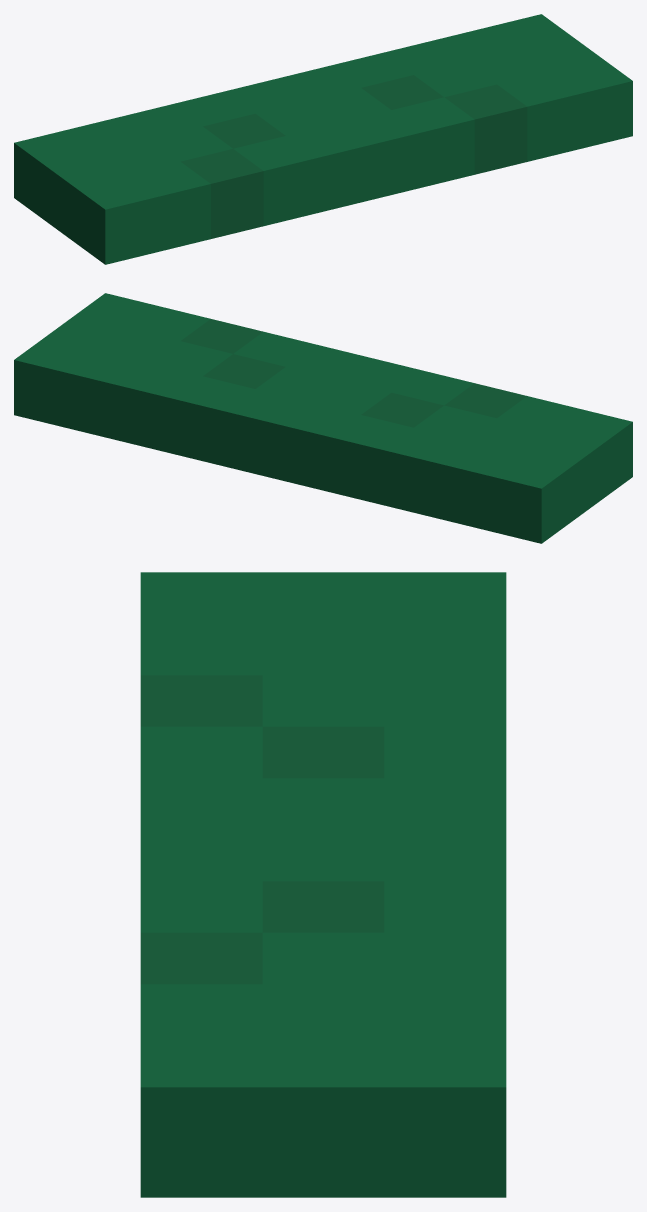
Rendered from platform3.obj.
3 views of the same model, one above another, from view 1: azimuth 30°, elevation 25°; view 2: azimuth 150°, elevation 25°; view 3: azimuth 270°, elevation 25° (orthographic). The views are drawn at different scales.
Visible parts, largest first — view 1: platform3; view 2: platform3; view 3: platform3.
Part boxes in pixels (box(x1,y1,x2,y2)): platform3: box(14, 14, 632, 264); platform3: box(14, 293, 632, 543); platform3: box(140, 572, 506, 1197).
Bounding box in the file's own units: 10 × 1 × 3.
1 material, 1 textured.
